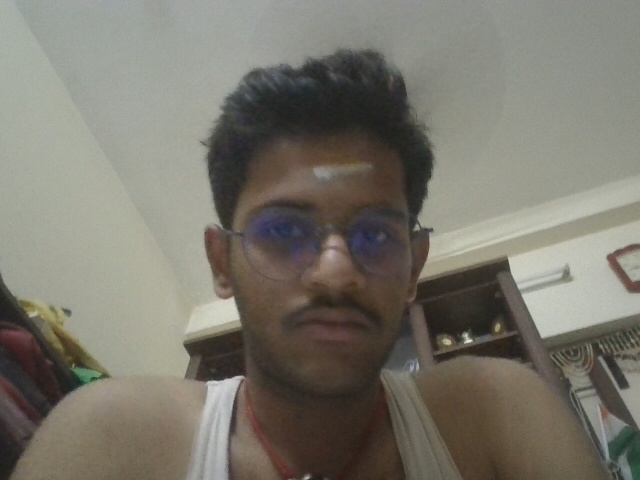real: (211, 138, 451, 378)
